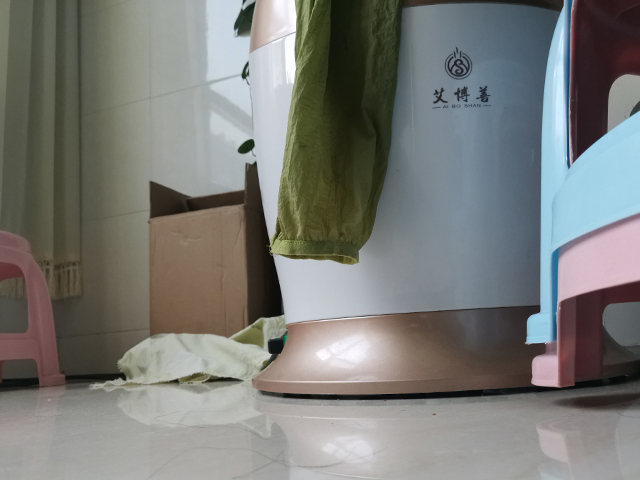curtain: (1, 1, 85, 300)
stool: (519, 1, 640, 393), (1, 230, 69, 390)
